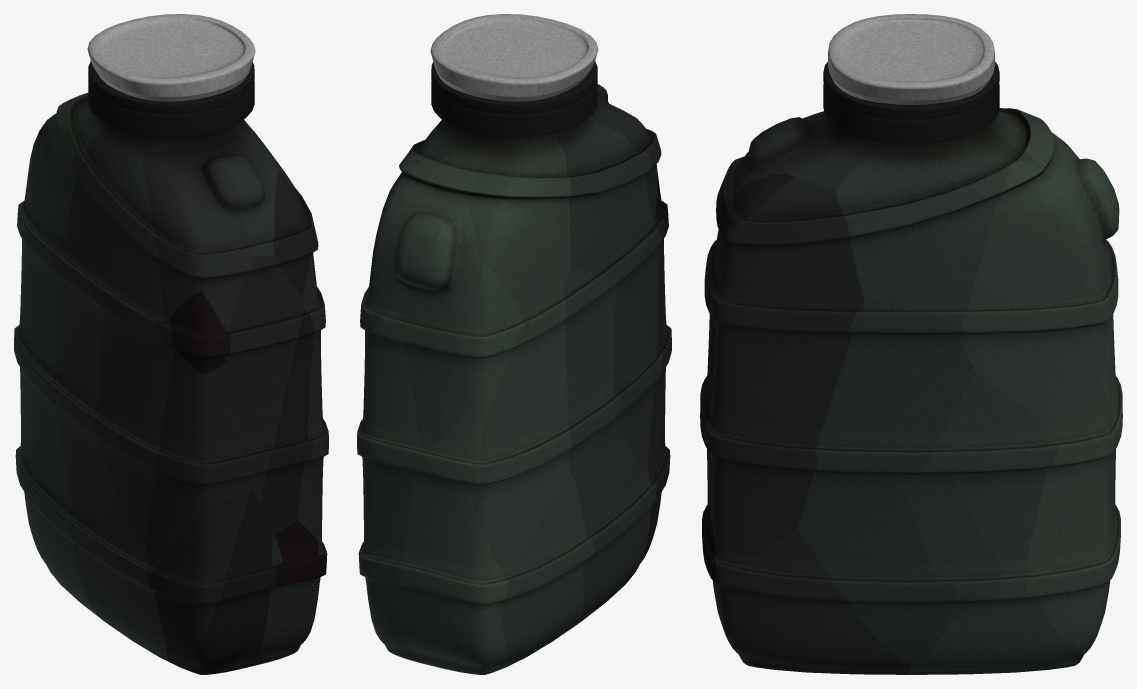
Rendered from canteen.glb.
3 views of the same model, side by side, from view 1: azimuth 30°, elevation 25°; view 2: azimuth 150°, elevation 25°; view 3: azimuth 270°, elevation 25° (orthographic). The views are drawn at different scales.
Visible parts, largest first — view 1: Cylinder_0; view 2: Cylinder_0; view 3: Cylinder_0.
Boxes of the visible parts, <box> form: Cylinder_0: <box>14,14,328,674</box>; Cylinder_0: <box>357,14,671,674</box>; Cylinder_0: <box>700,14,1122,674</box>.
Bounding box in the file's own units: 0.0756 × 0.2194 × 0.1419.
Materials: 1 (1 with a texture image).
